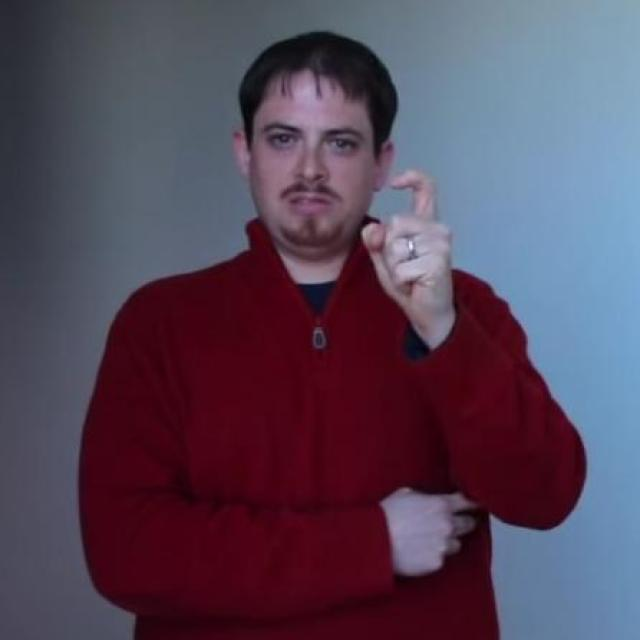X: (359, 164, 463, 331)
